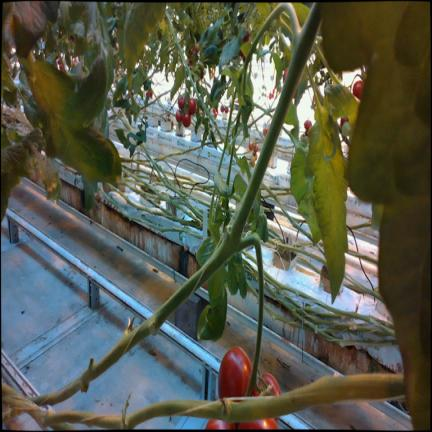MainStem: (28, 3, 321, 406), (1, 374, 405, 429), (263, 270, 396, 338), (264, 283, 398, 350), (168, 19, 226, 144), (98, 185, 203, 239), (122, 167, 202, 227), (105, 182, 202, 231), (140, 144, 203, 218), (285, 301, 390, 337), (264, 275, 348, 319), (261, 183, 313, 241), (263, 303, 314, 333), (123, 184, 171, 214)
tomato: (218, 346, 252, 398), (256, 373, 280, 394), (238, 418, 279, 429), (205, 419, 236, 430), (353, 80, 364, 99), (182, 113, 190, 127), (189, 98, 196, 114), (178, 94, 185, 109), (176, 110, 182, 121)
